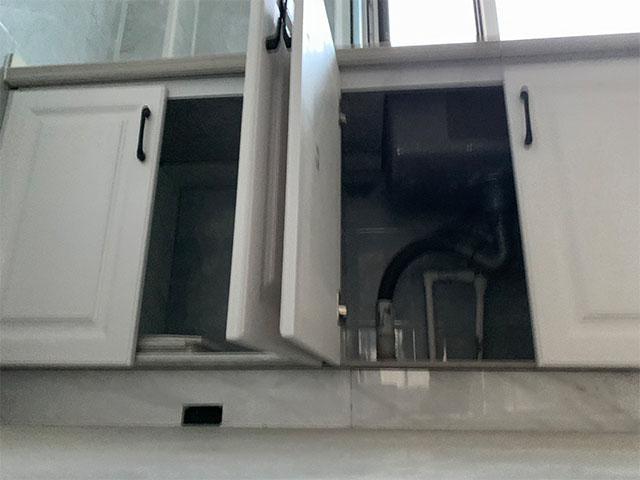cabinet: (1, 1, 639, 436)
